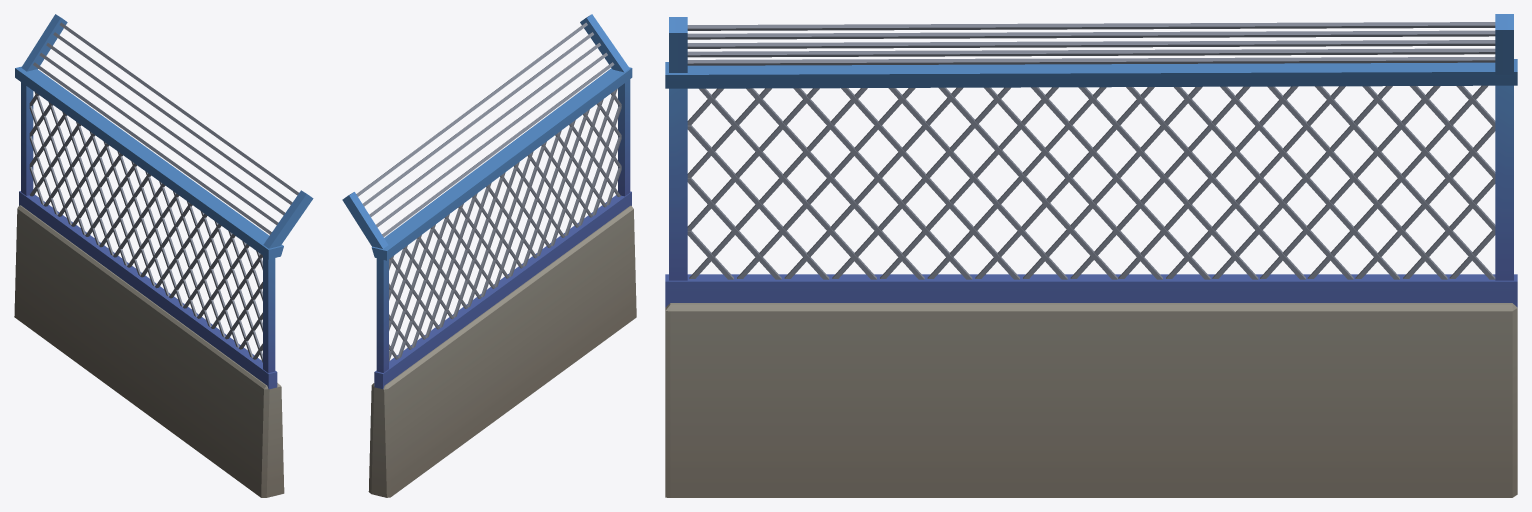
File: Fence_6_1_B.glb
3 renders of one model, left to right at view 1: azimuth 30°, elevation 25°; view 2: azimuth 150°, elevation 25°; view 3: azimuth 270°, elevation 25°, orthographic. The views are drawn at different scales.
Visible parts, largest first — view 1: Fence_6_1_B; view 2: Fence_6_1_B; view 3: Fence_6_1_B.
Part boxes in pixels (box(x1,y1,x2,y2)): Fence_6_1_B: box(14, 14, 313, 497); Fence_6_1_B: box(342, 14, 636, 497); Fence_6_1_B: box(665, 14, 1517, 497).
Size of the model in its own units: 0.7215 by 3.88 by 6.
Materials: 3 (3 with a texture image).
